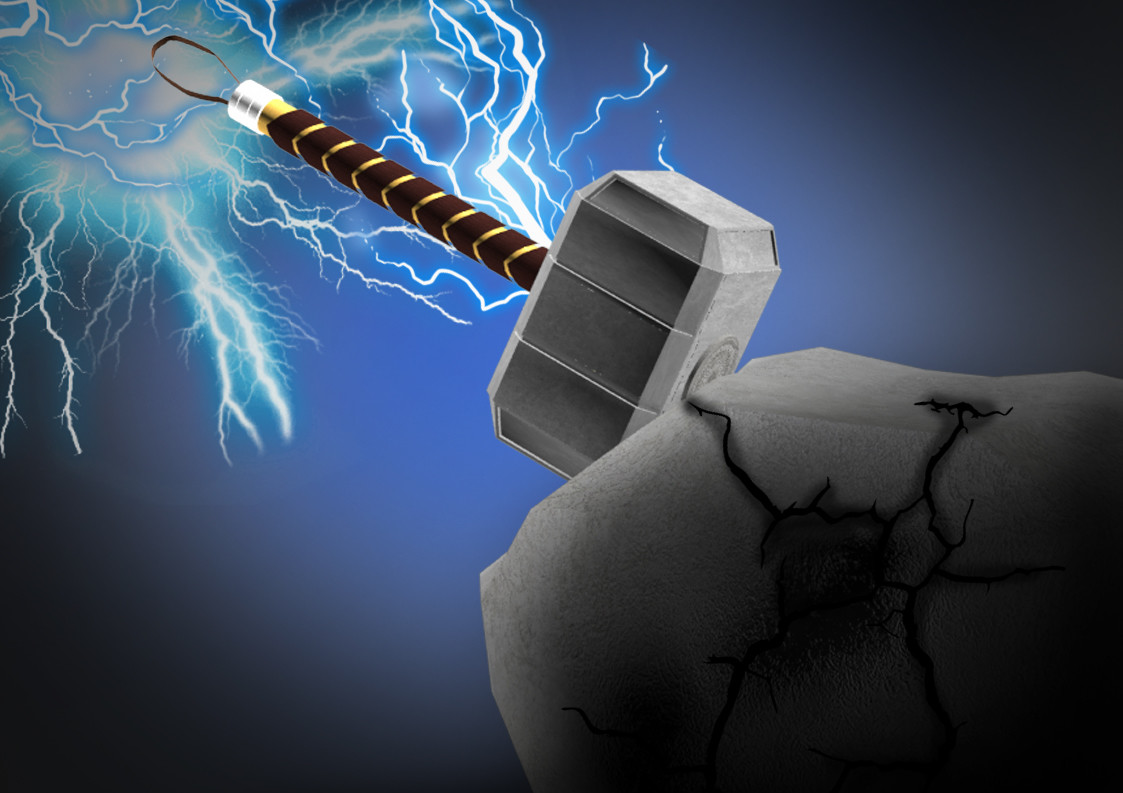THOR Hammer: (228, 79, 804, 466)
